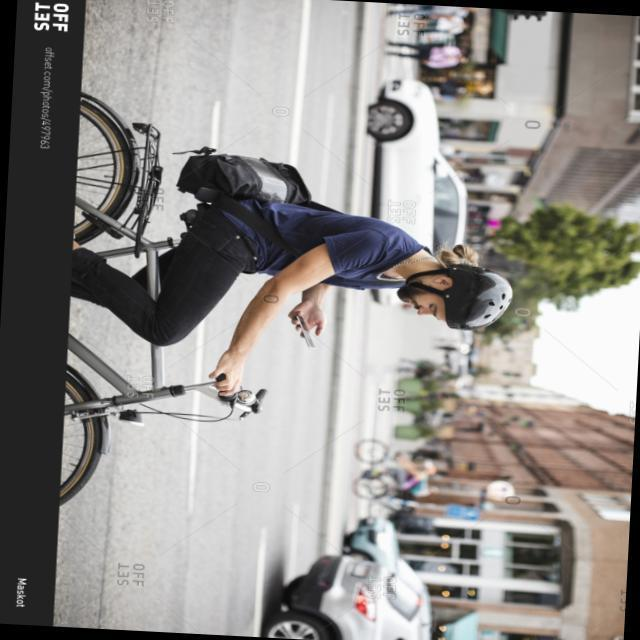use_mobile: (292, 285, 327, 346)
with_helmet: (397, 255, 513, 333)
